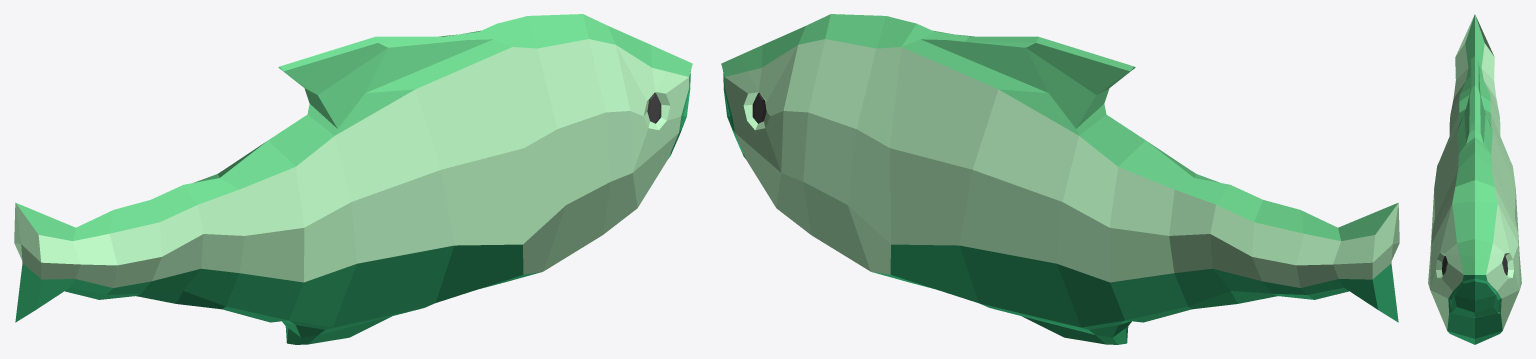
File: FishV2_1.fbx
3 views of the same model, side by side, from view 1: azimuth 30°, elevation 25°; view 2: azimuth 150°, elevation 25°; view 3: azimuth 270°, elevation 25° (orthographic). The views are drawn at different scales.
Parts seen in each view (by area): view 1: FishV2_1; view 2: FishV2_1; view 3: FishV2_1.
Boxes of the visible parts, x1,y1,x2,y2 form: FishV2_1: (14,14,692,344); FishV2_1: (721,14,1399,344); FishV2_1: (1428,14,1521,344).
Size of the model in its own units: 194 by 79.54 by 31.91.
